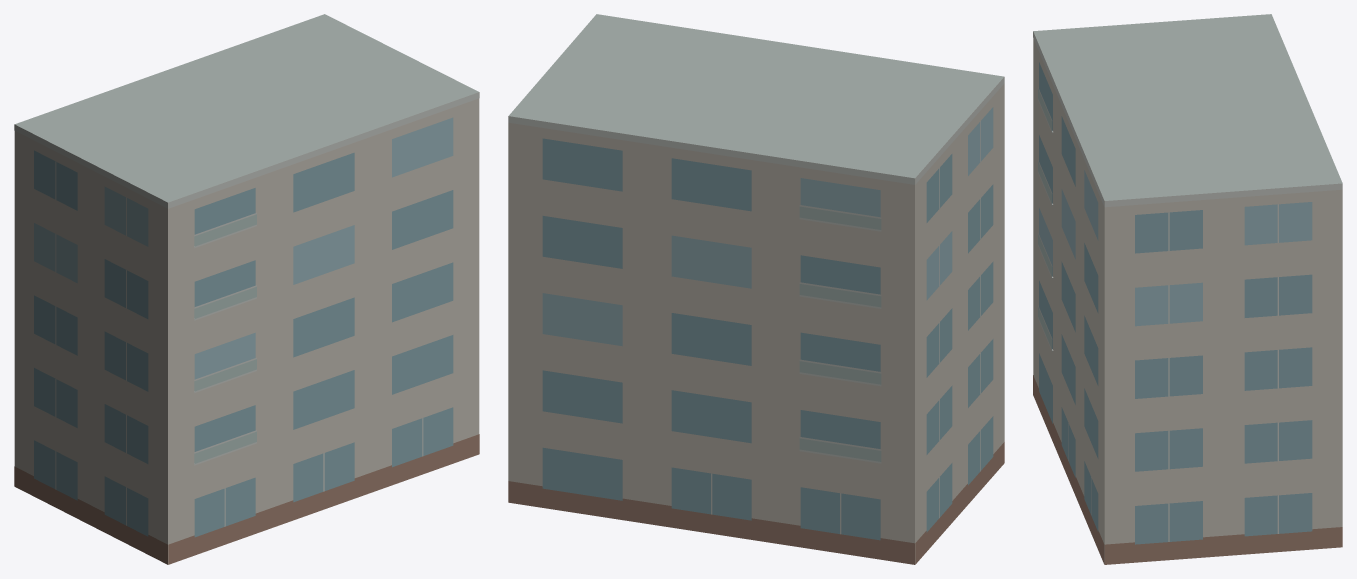
The model's file is survey-upis-32930642.glb.
3 views of the same model, side by side, from view 1: azimuth 30°, elevation 25°; view 2: azimuth 150°, elevation 25°; view 3: azimuth 270°, elevation 25° (orthographic). The views are drawn at different scales.
Parts seen in each view (by area): view 1: survey-upis-32930642.tmp; view 2: survey-upis-32930642.tmp; view 3: survey-upis-32930642.tmp.
Part boxes in pixels (box(x1,y1,x2,y2)): survey-upis-32930642.tmp: box(14, 14, 479, 564); survey-upis-32930642.tmp: box(508, 14, 1004, 564); survey-upis-32930642.tmp: box(1033, 14, 1342, 564).
Size of the model in its own units: 15.78 by 14.3 by 11.04.
